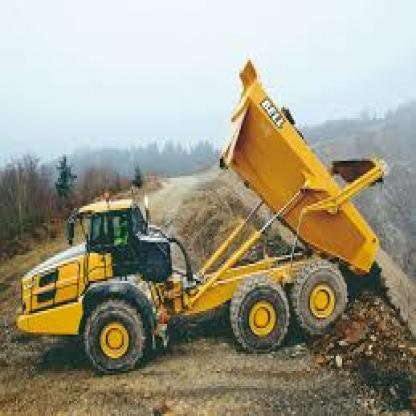dump_truck: (8, 52, 394, 376)
